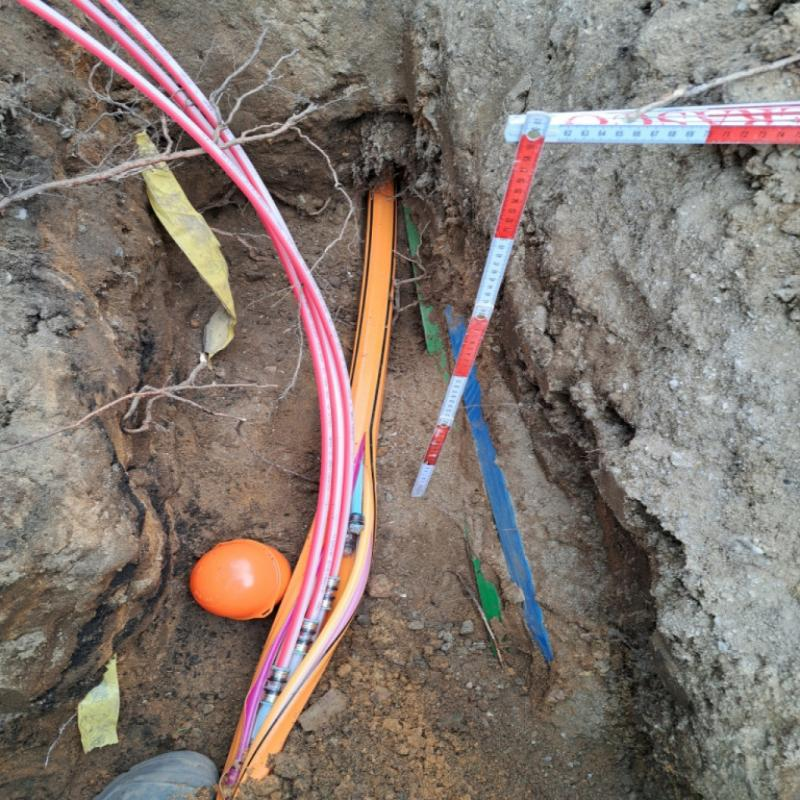Kugelmarker: (190, 537, 289, 621)
Orang-Speednetrohrchen: (223, 178, 396, 783)
